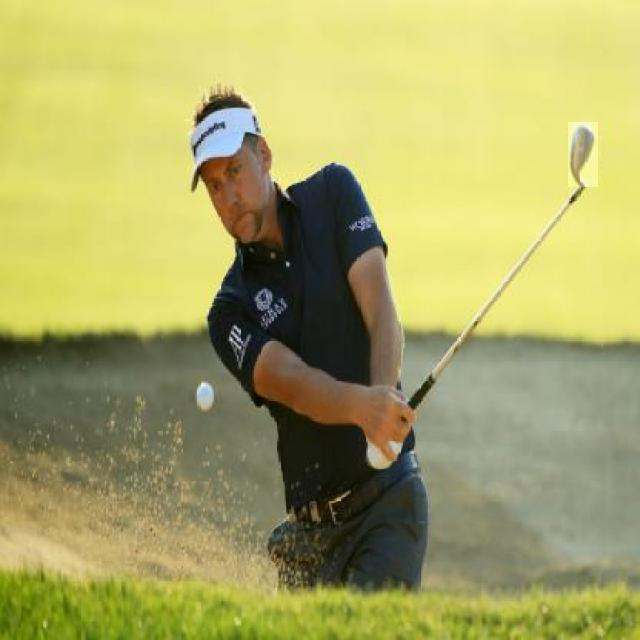club head: (568, 122, 598, 187)
